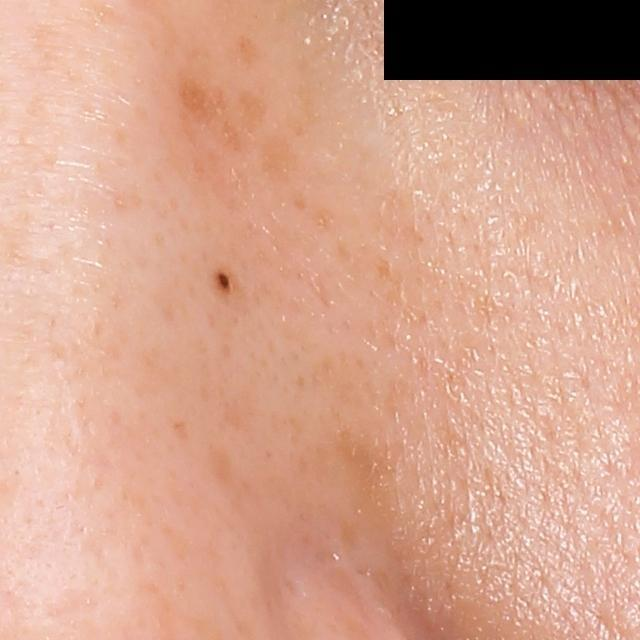melasma: (176, 75, 252, 162), (260, 130, 294, 192), (236, 87, 274, 140), (235, 29, 266, 74), (207, 449, 238, 487), (169, 419, 194, 442)
